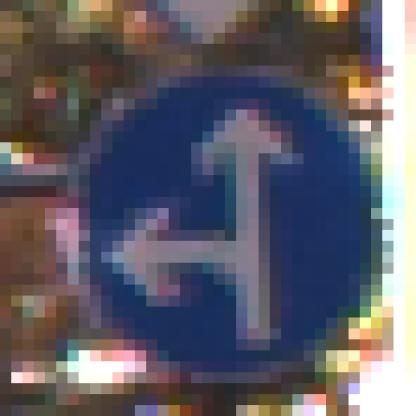Straight or Left: (57, 56, 361, 362)
